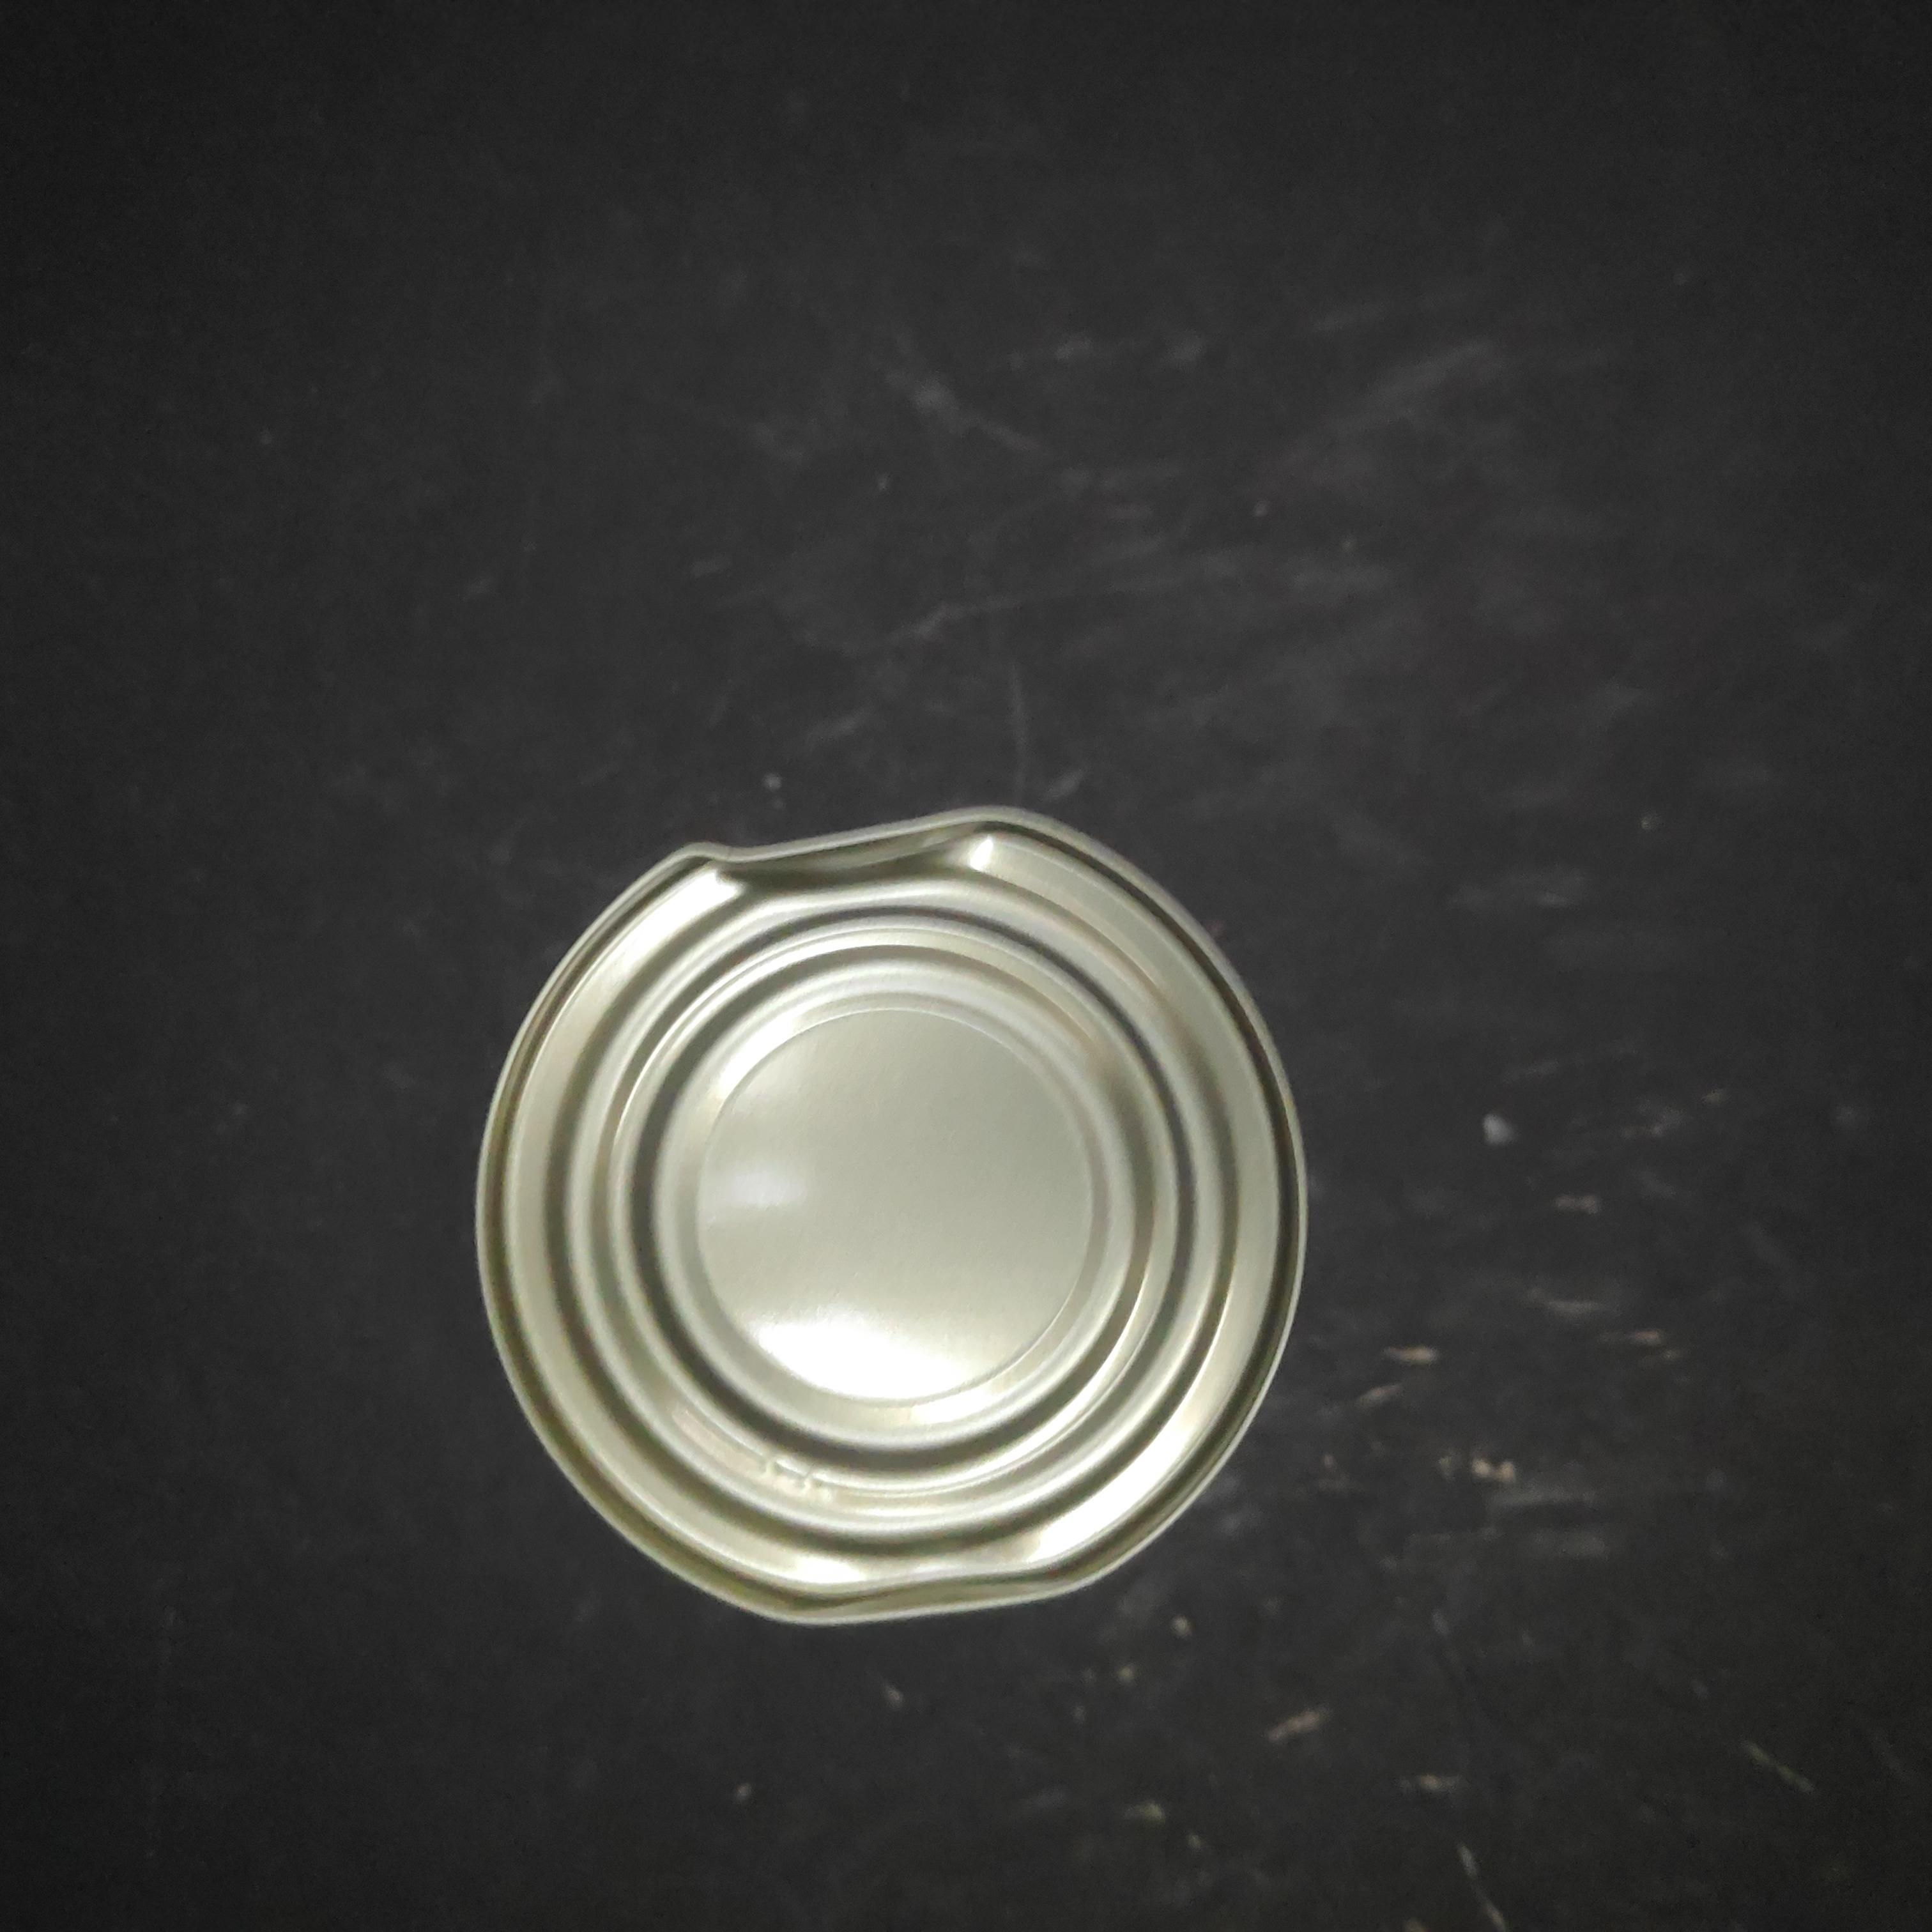Minor Defect: (605, 281, 1477, 1145)
